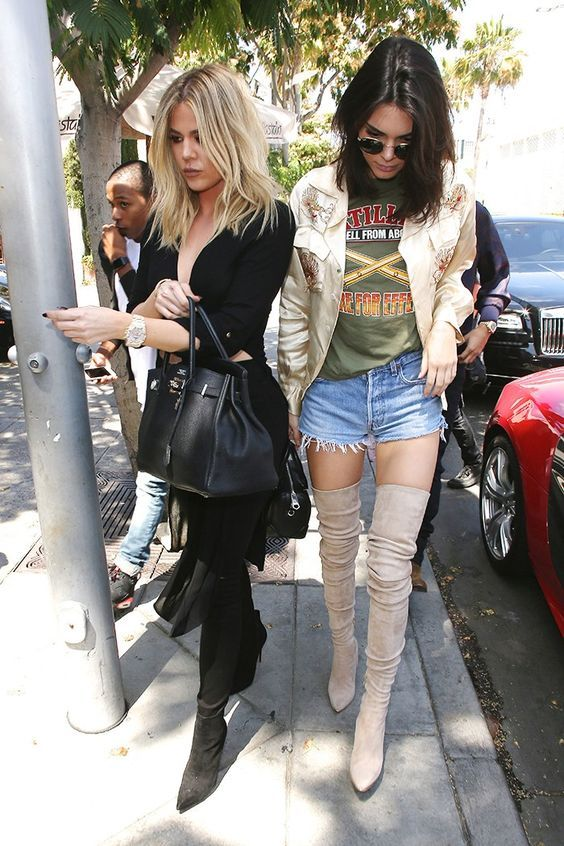Person: (99, 43, 299, 821), (320, 48, 459, 809)
